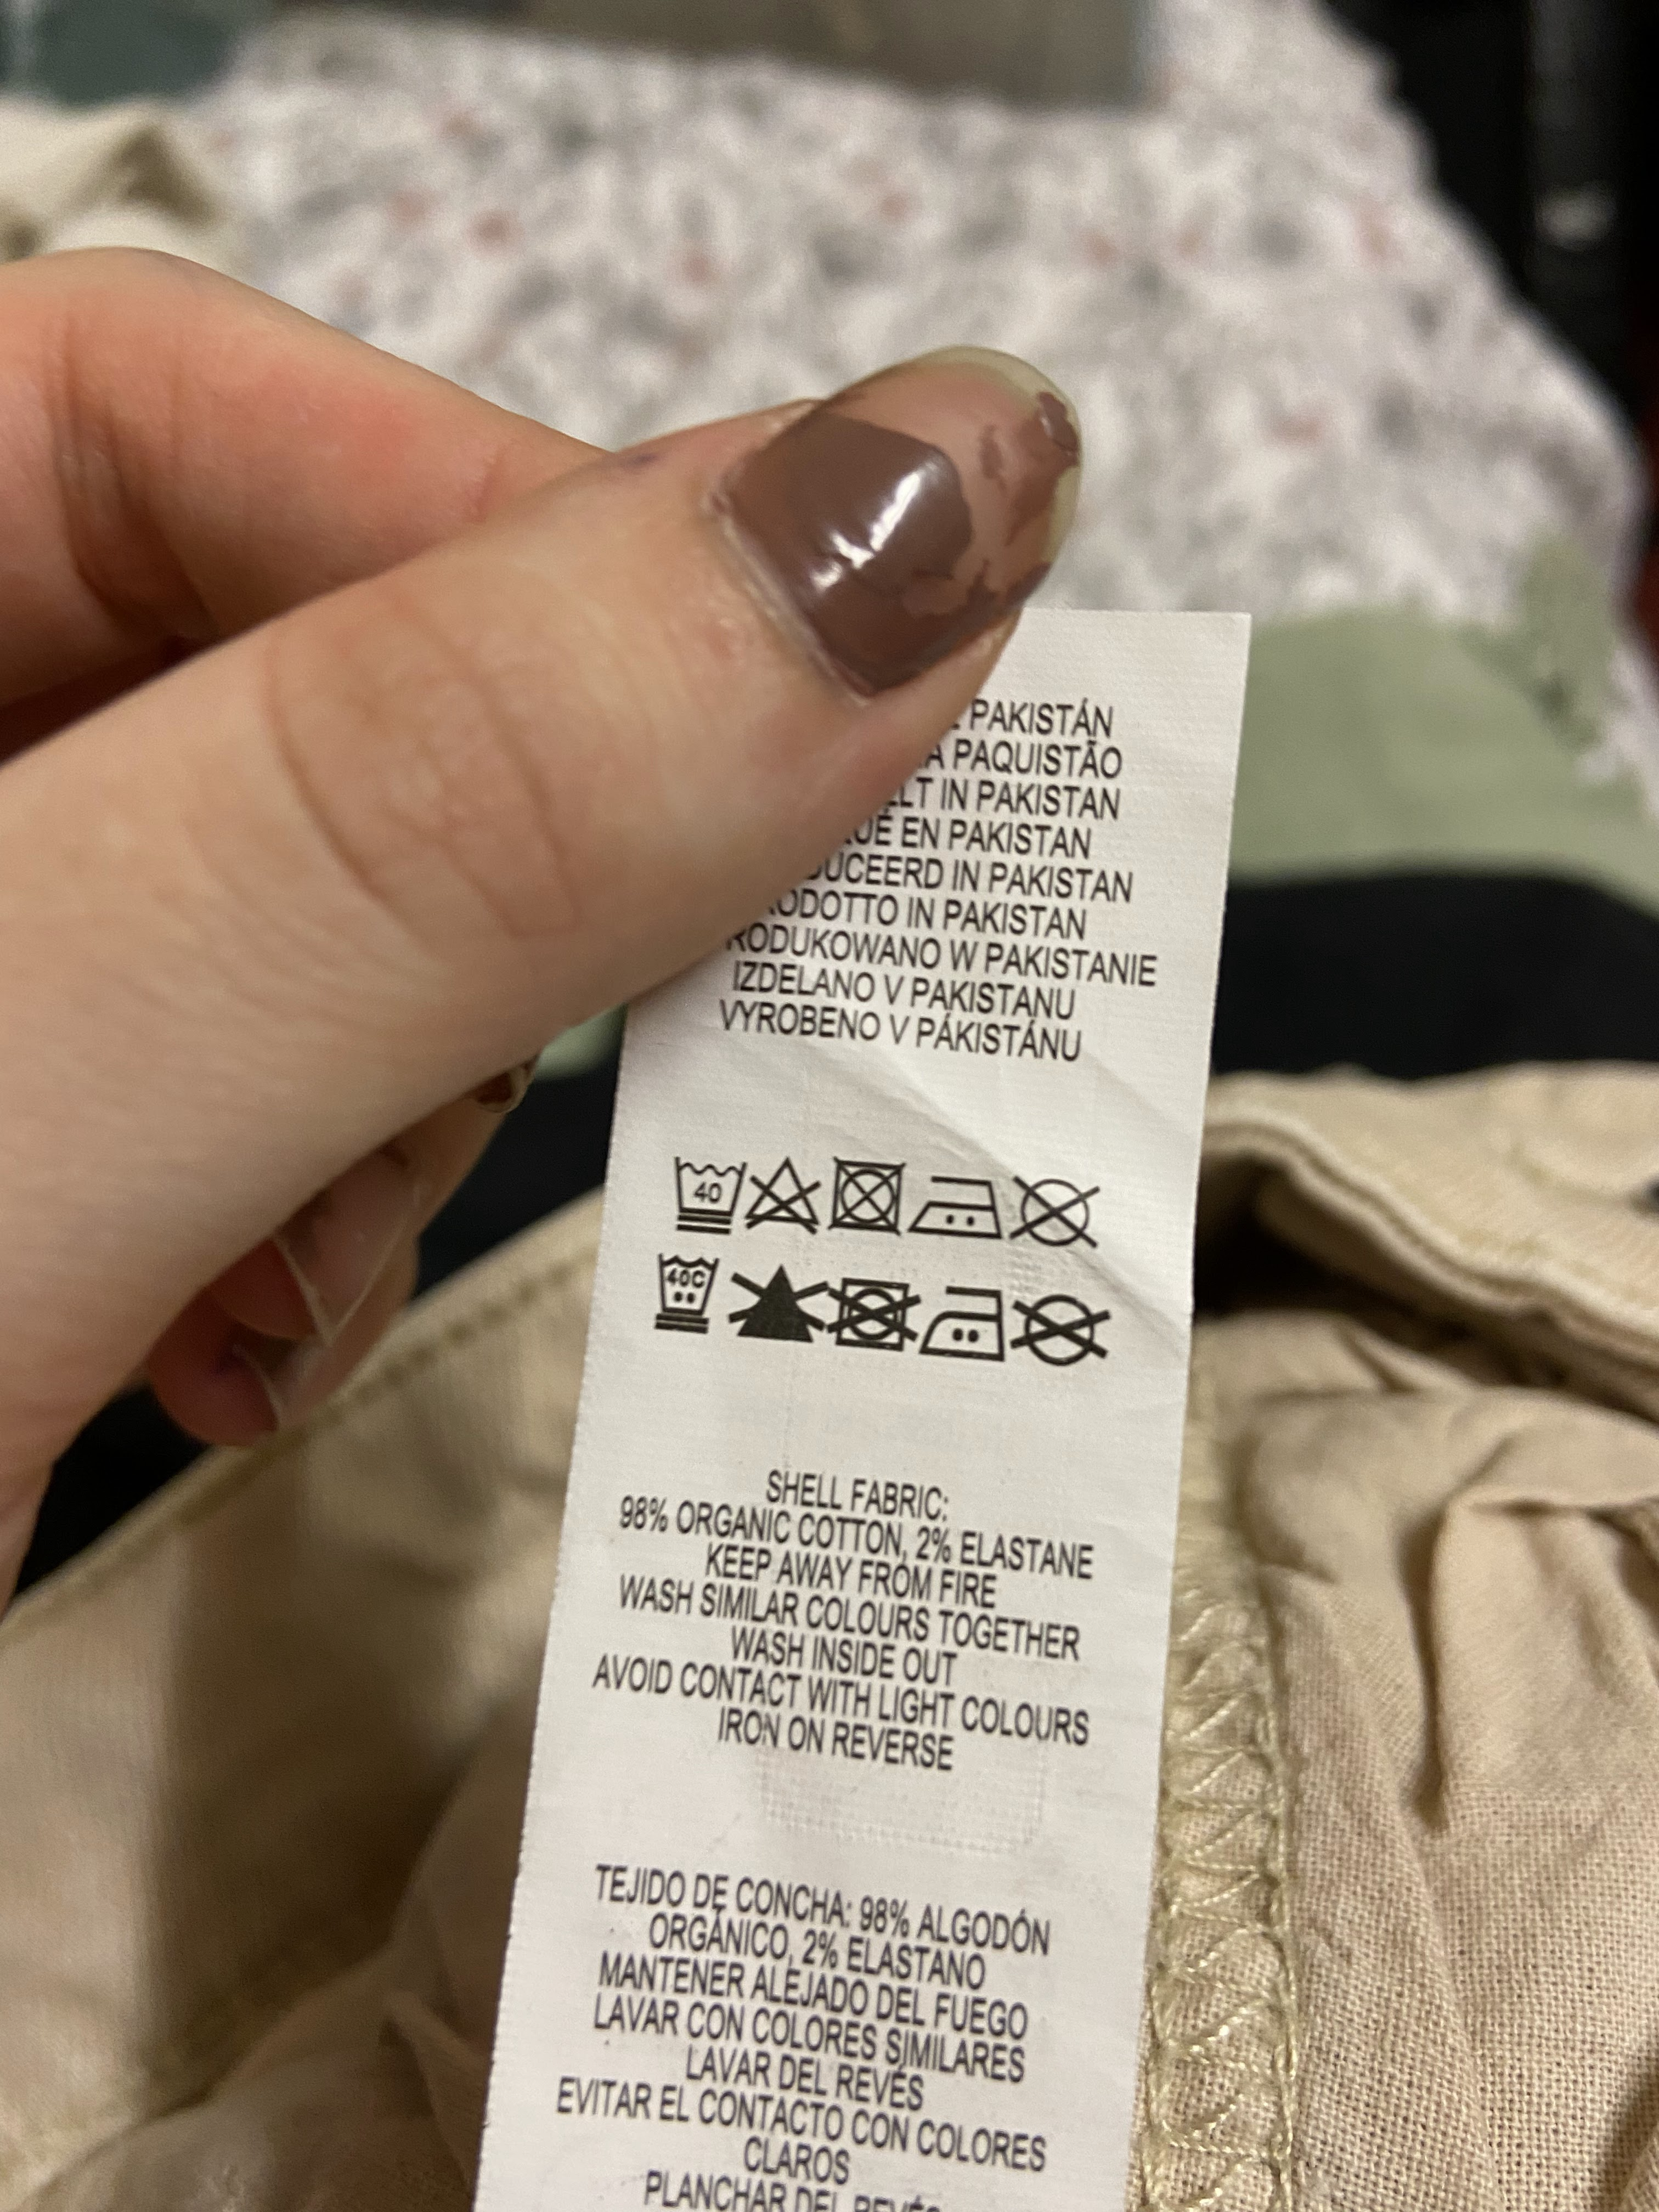do not bleach: (746, 1136, 826, 1238)
do not dry clean: (993, 1162, 1105, 1264)
do not tumble dry: (821, 1144, 913, 1249)
iron medium temp: (908, 1143, 1007, 1266)
wash at or below 40: (652, 1144, 749, 1251)
